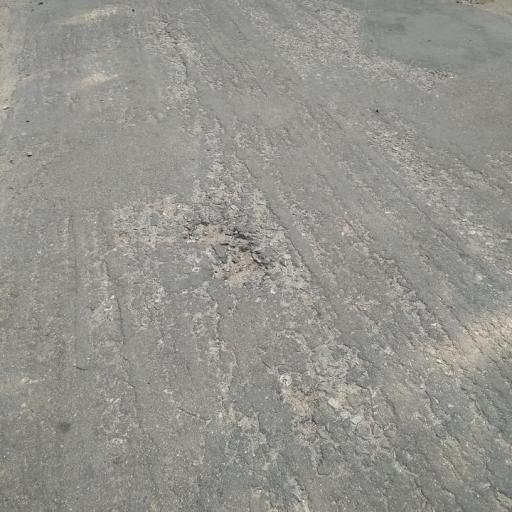pothole: (182, 217, 271, 290)
